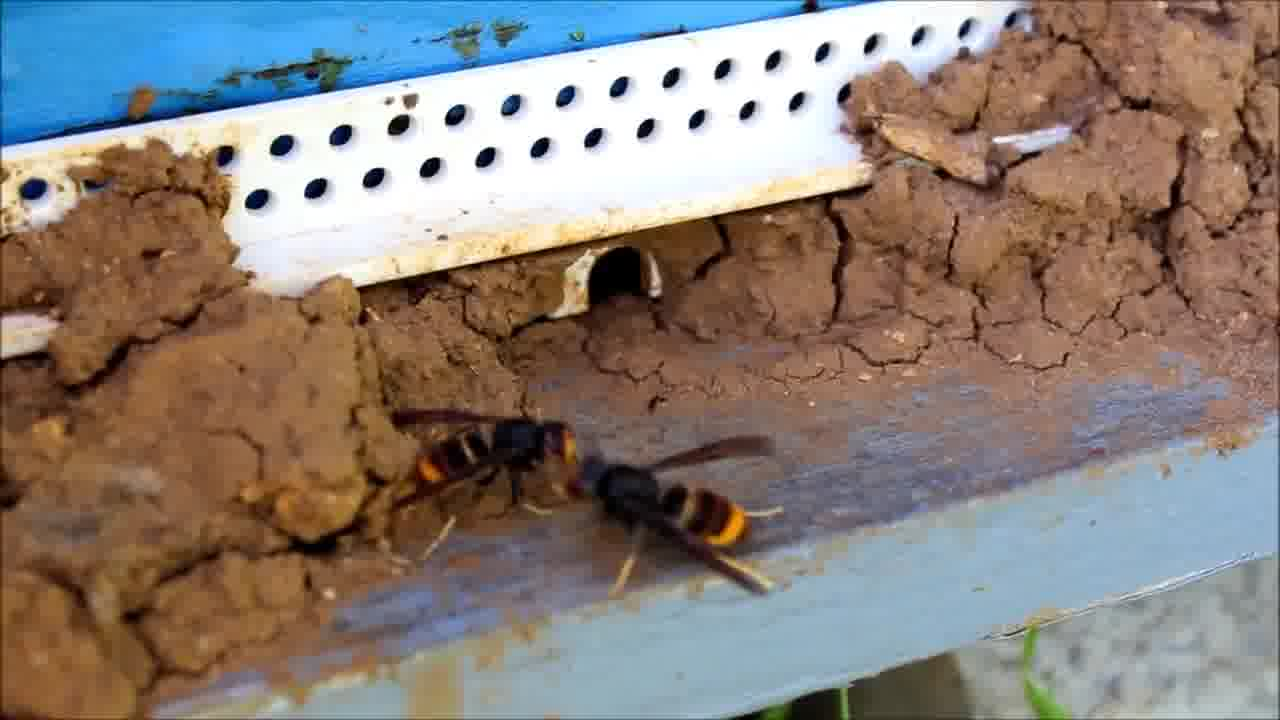hornet: (559, 439, 803, 609), (360, 398, 577, 530)
